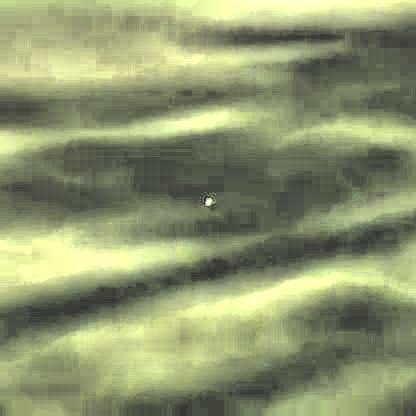golfball: (202, 194, 212, 204)
